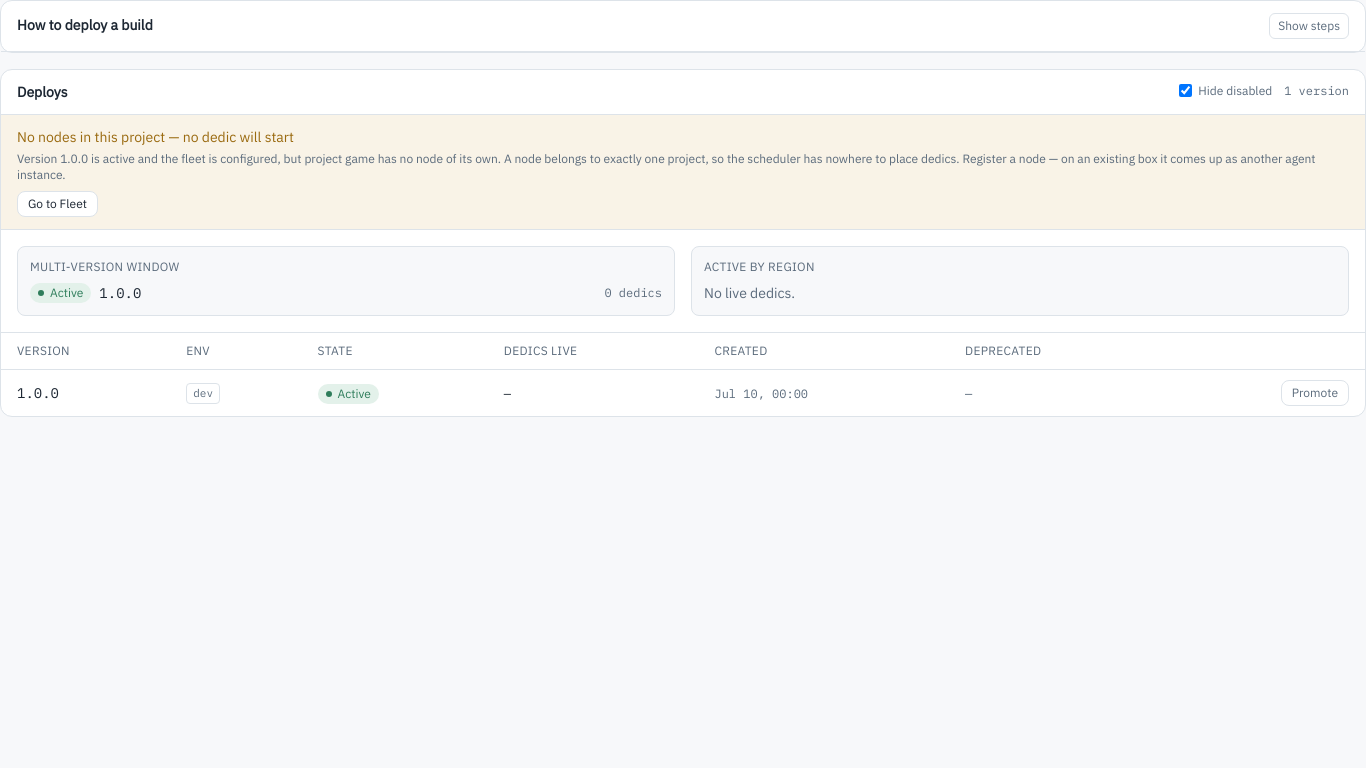
PromoteDialog: 403 привязанного ключа — головная поверхность #1005 › 400 у формы промоута → «проверьте поля», а не пересказ мастера
The width and height of the screenshot is (1366, 768).
Click the button "Promote".
click(1315, 393)  # box [1281,380,1349,406]
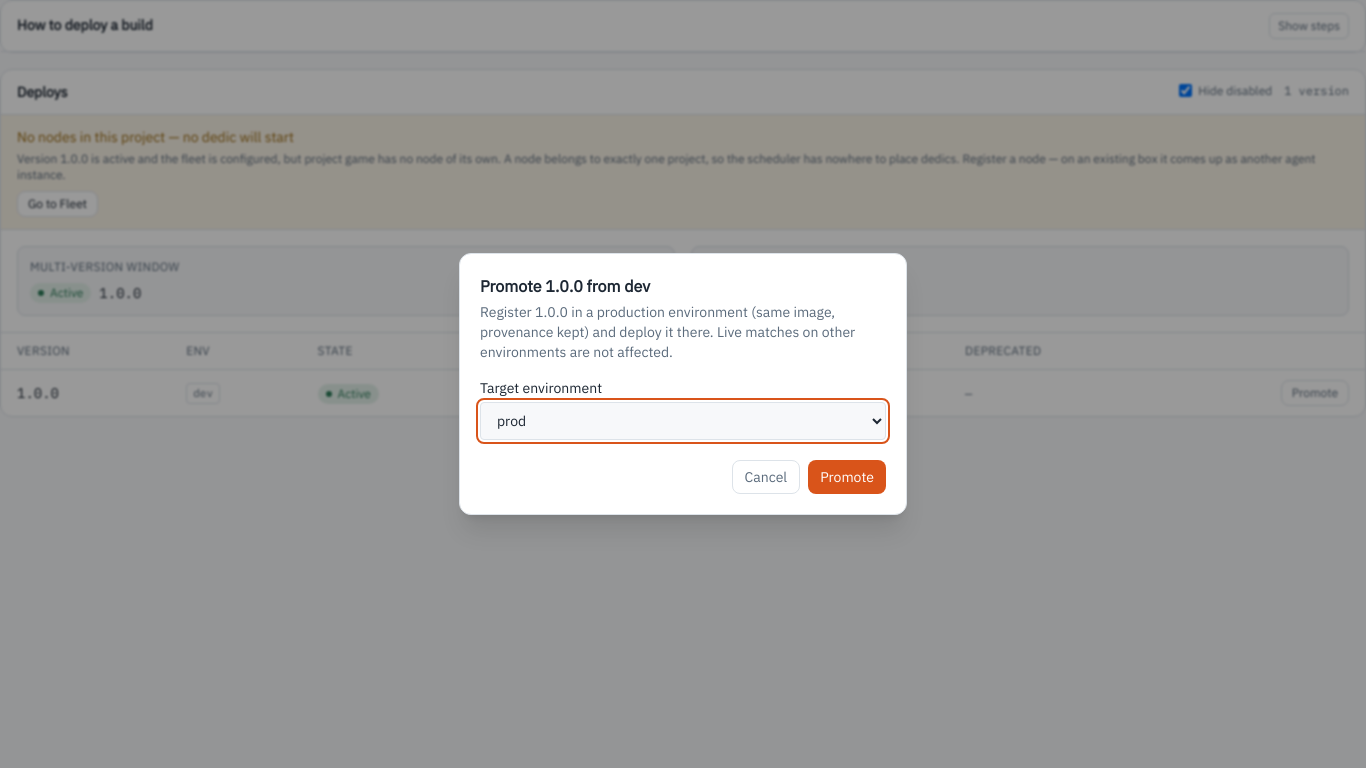
Click the button "Promote".
click(847, 477)  # box [808,460,886,494]
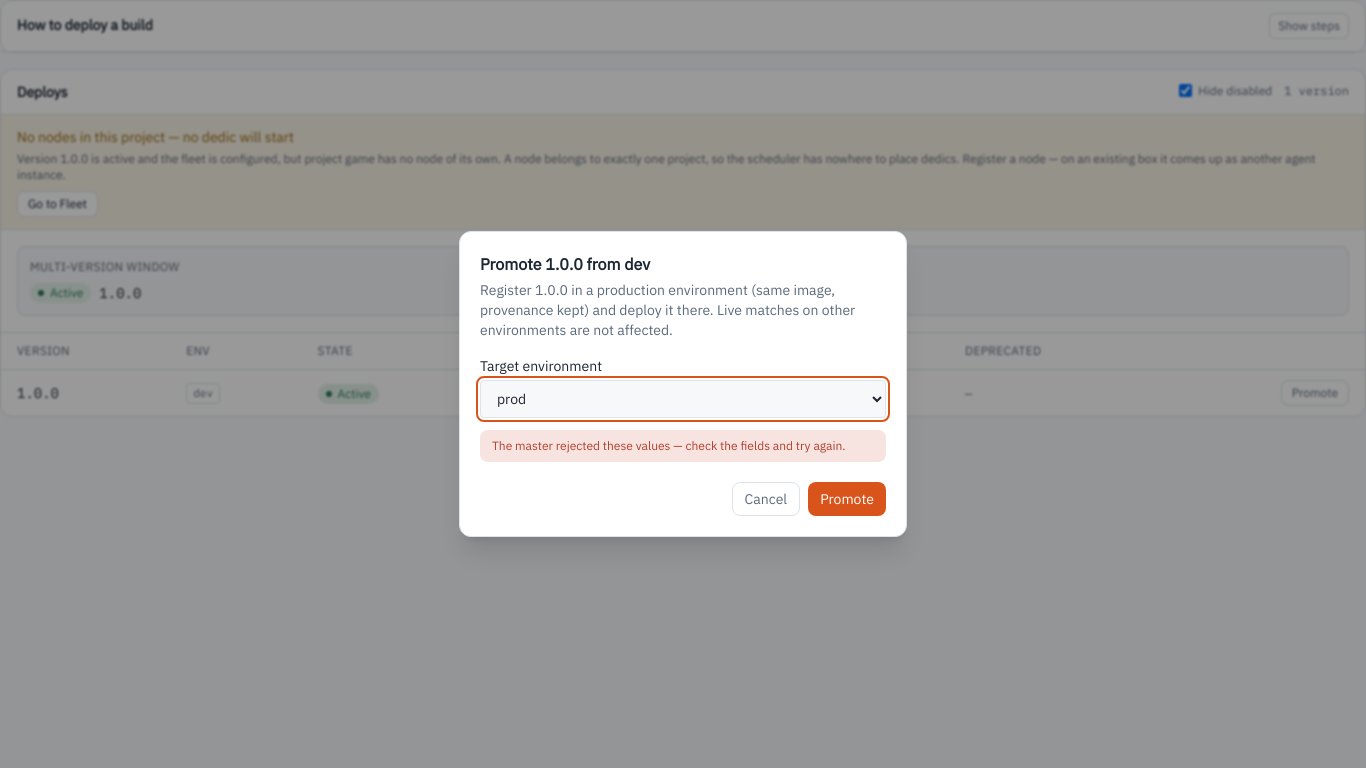
Now the text "The master rejected these values — check the fields and try again." is shown, box [480,430,886,462]
